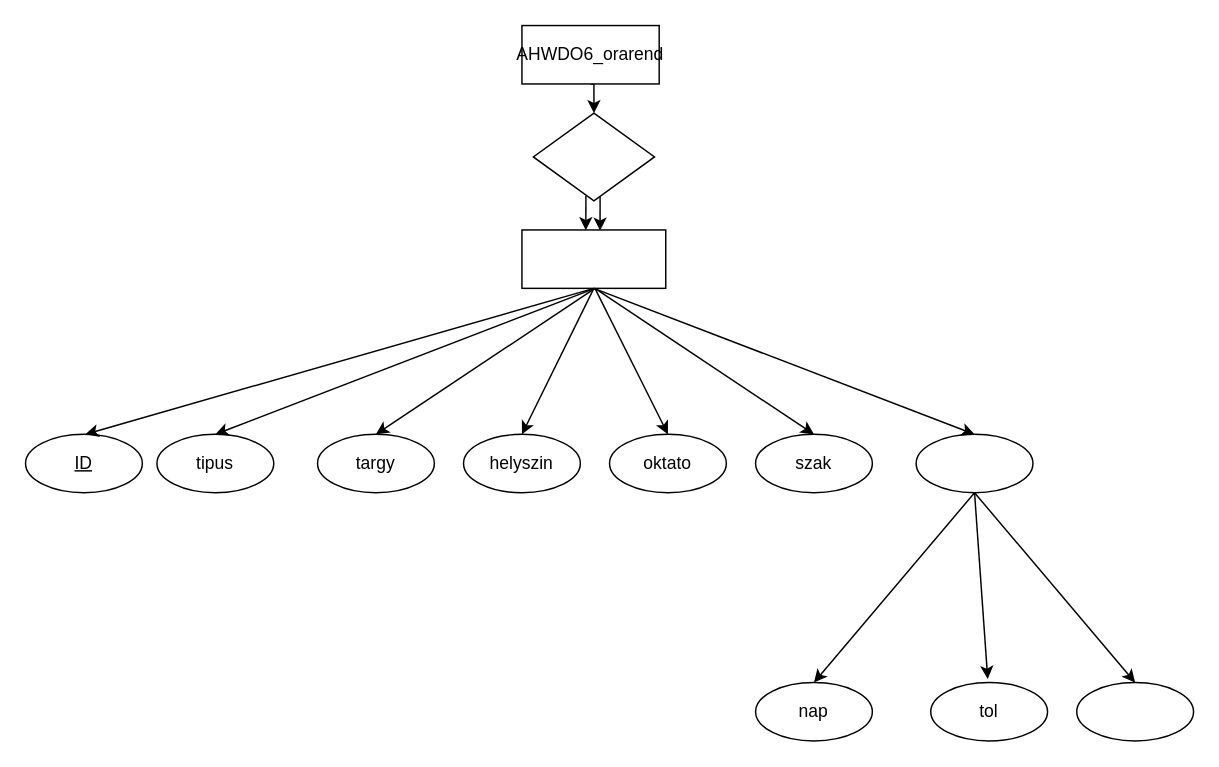
This 1219x767 diagram has some shape labels left out. The centre of each missing label's shape, as x and y in pixels:
(idopont): point (974, 463)
ora: point (593, 258)
tartalmaz: point (593, 156)
